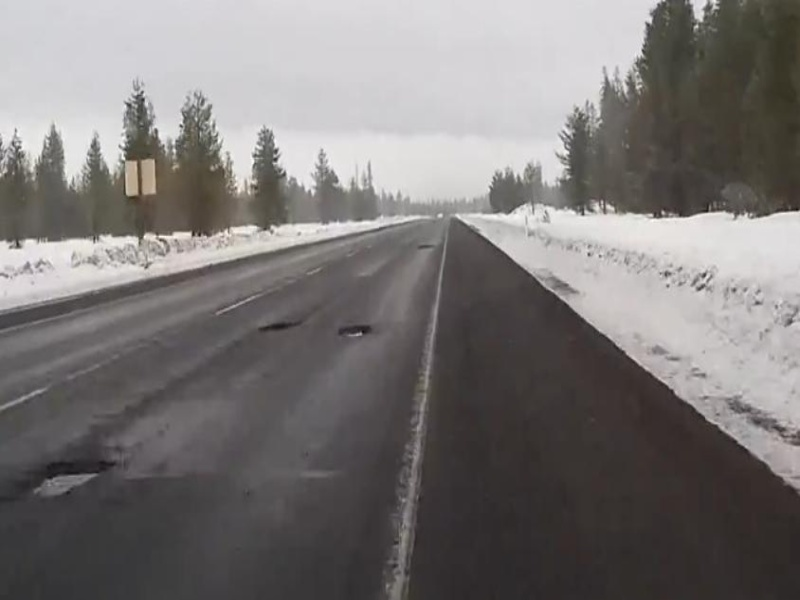pothole: (27, 450, 120, 500), (338, 323, 365, 343)
